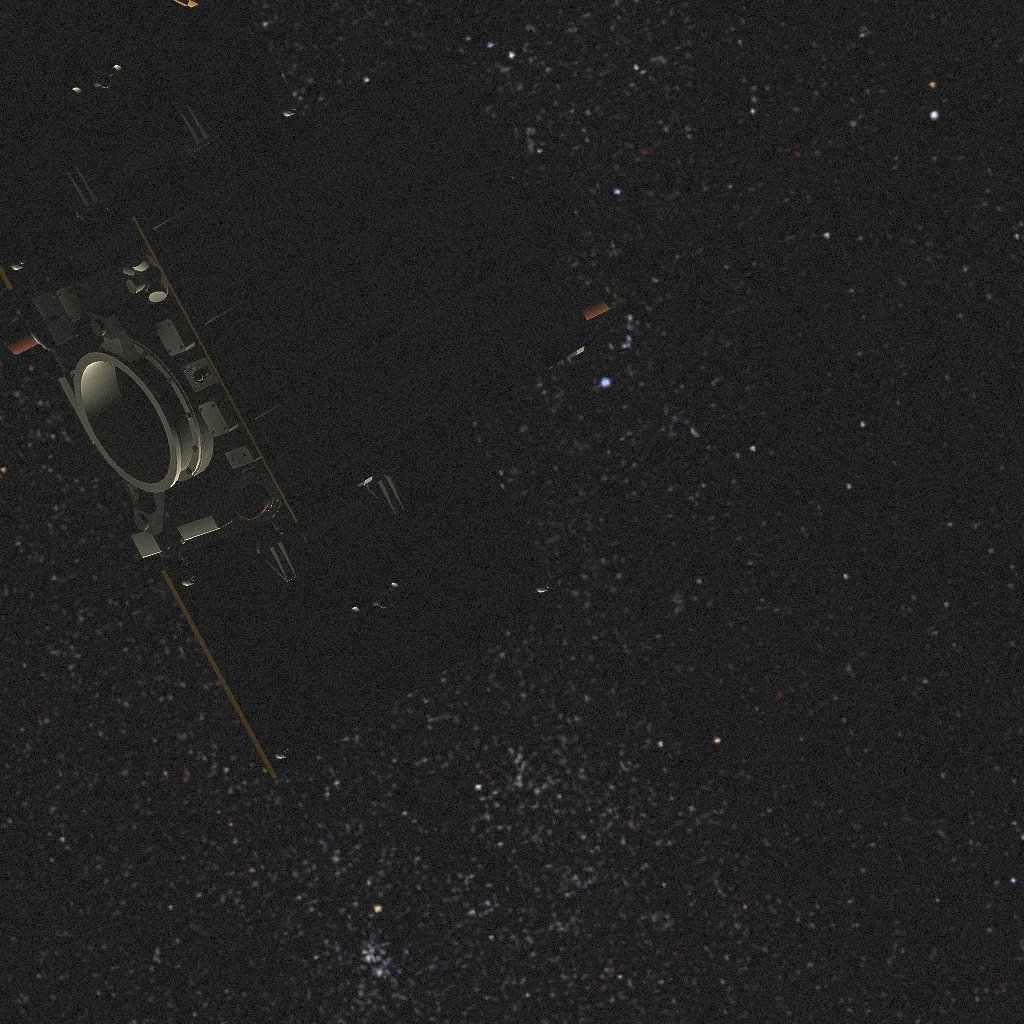proba_2: (0, 0, 611, 779)
